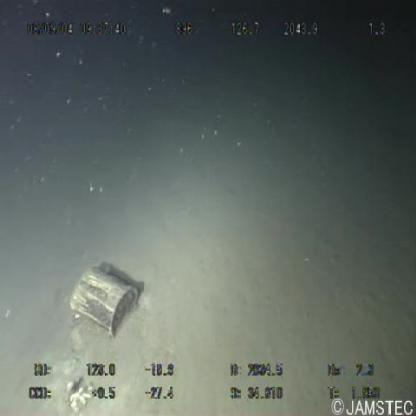Rác: (70, 265, 146, 333)
